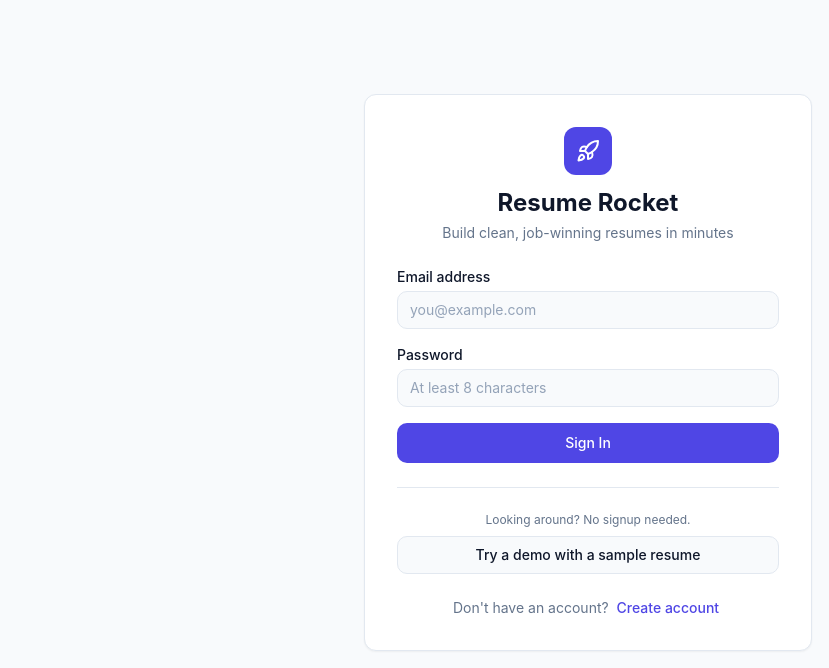
Test: Phase 7b: Try demo button › 1. calls startDemo once, shows loading, sets user, navigates, and extra clicks do nothing
Click the button "Try a demo with a sample resume".
click(588, 554)  # box [397,536,779,574]
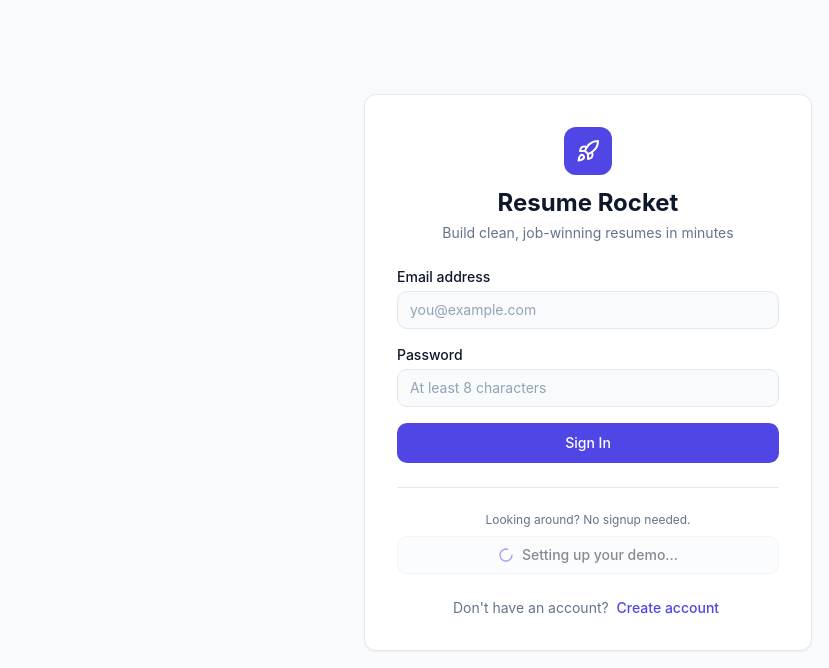
Now the button "Setting up your demo..." is disabled
Click the button "Setting up your demo...".
click(588, 554)  # box [397,536,779,574]
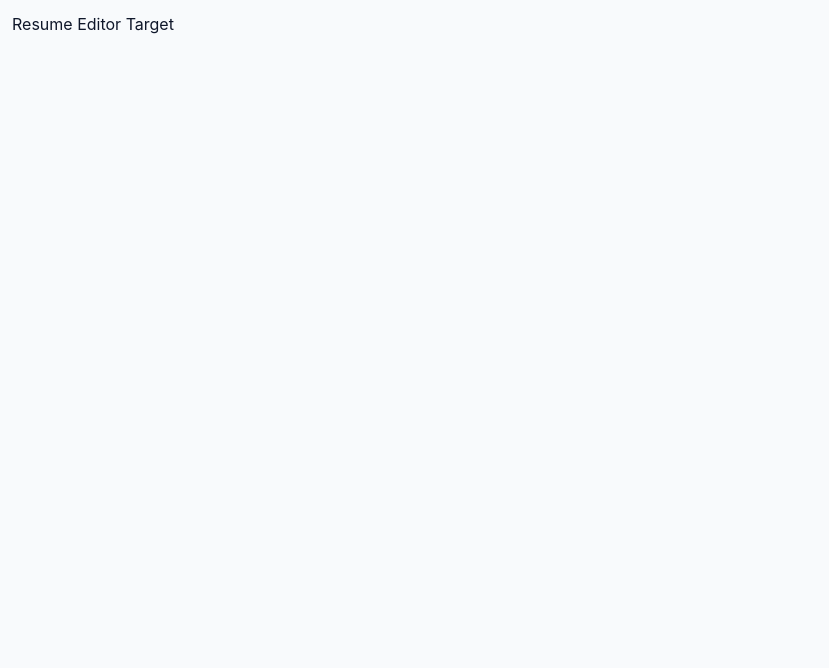
Now the text "Resume Editor Target" is shown, box [12,14,174,34]
